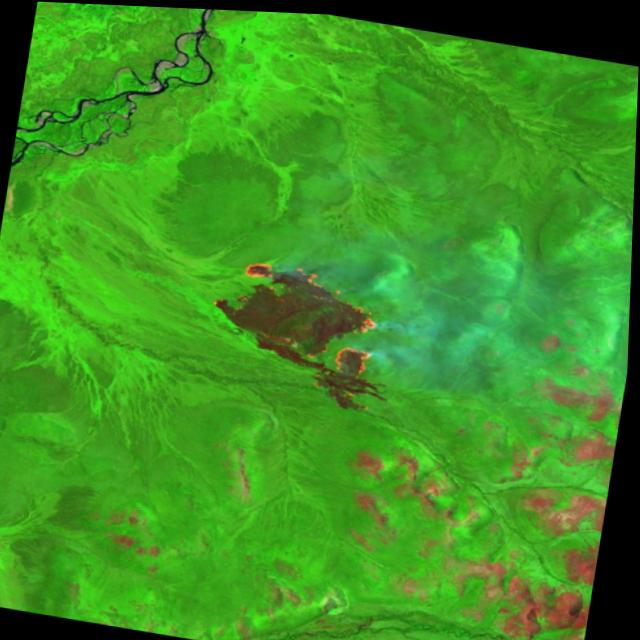fire: (203, 248, 394, 378)
